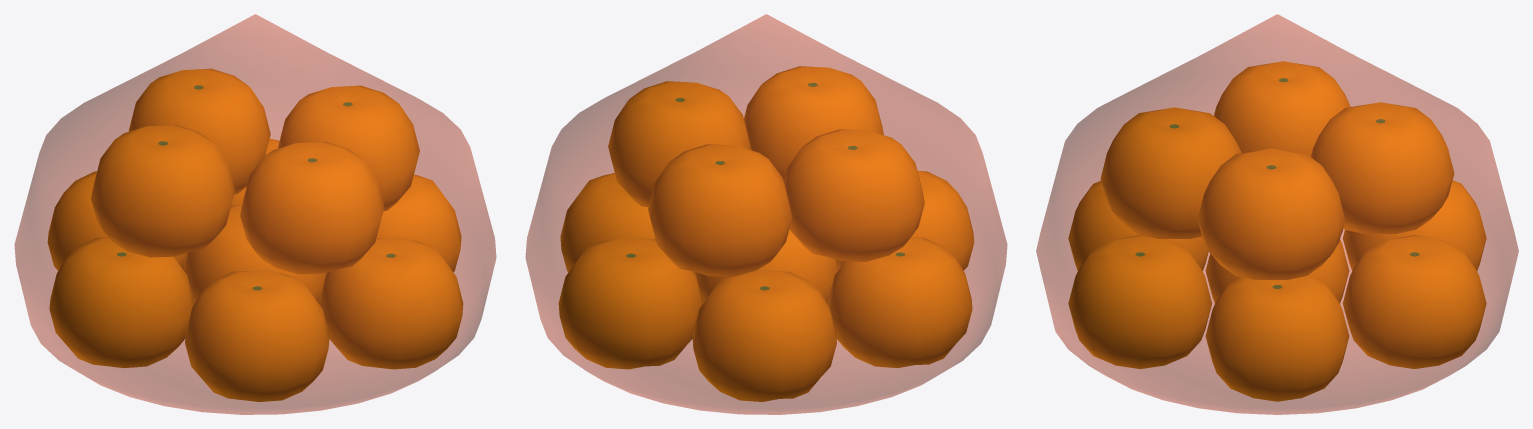
The model's file is Bag_Mandarins.glb.
3 renders of one model, left to right at view 1: azimuth 30°, elevation 25°; view 2: azimuth 150°, elevation 25°; view 3: azimuth 270°, elevation 25°, orthographic.
Parts seen in each view (by area): view 1: Bag_Mandarins; view 2: Bag_Mandarins; view 3: Bag_Mandarins.
Boxes of the visible parts, bbox=[...] form: Bag_Mandarins: bbox=[14, 14, 496, 414]; Bag_Mandarins: bbox=[525, 14, 1007, 414]; Bag_Mandarins: bbox=[1036, 14, 1518, 414].
Bounding box in the file's own units: 0.2816 × 0.2021 × 0.2816.
2 materials, 2 textured.
